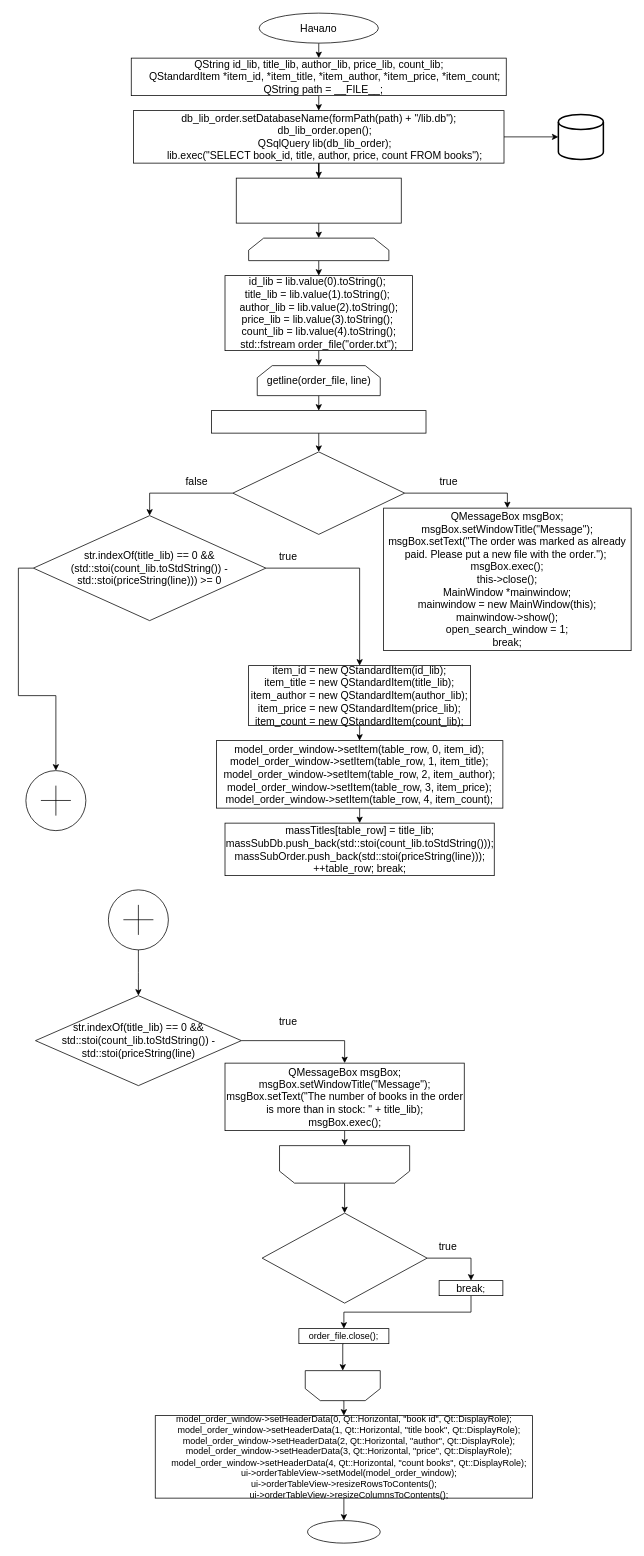
This 644x1556 diagram has some shape labels left out. Each missing label, with the box of its shape:
lib.db: (557, 113, 604, 160)
lib.next();: (248, 237, 389, 261)
line == "order has been paid": (232, 451, 405, 534)
open_search_window == 1: (261, 1212, 427, 1303)
QString str = QString::fromStdString(line);: (211, 410, 426, 433)
std::string line; int open_search_window = 0;: (236, 177, 401, 223)
Конец: (307, 1520, 380, 1543)
